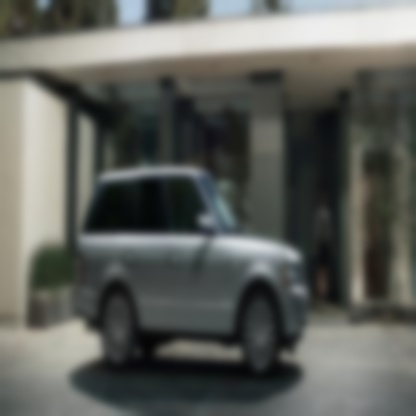Vehicle: (73, 169, 309, 382)
